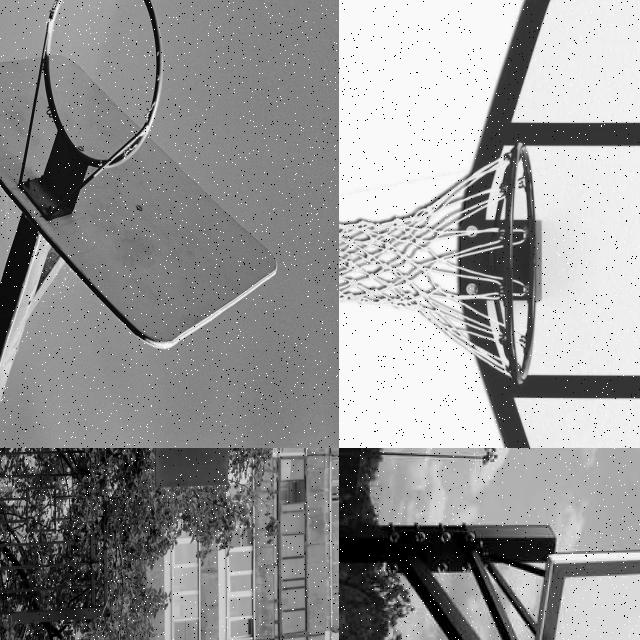backboard: (451, 0, 640, 448), (0, 54, 278, 346)
